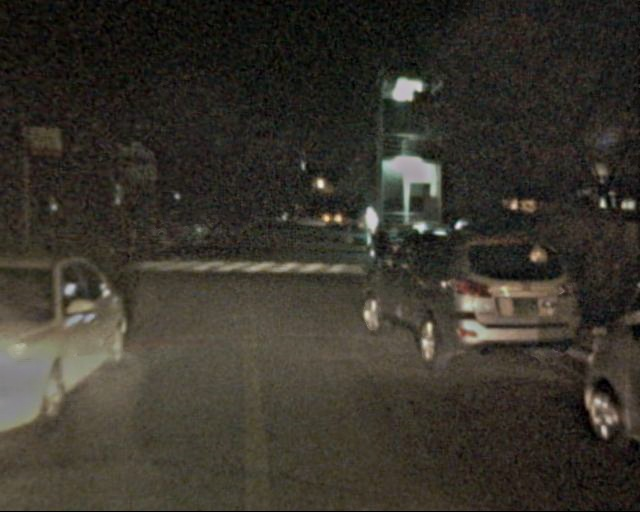person: (366, 225, 392, 289), (117, 217, 142, 279), (168, 215, 183, 256)
